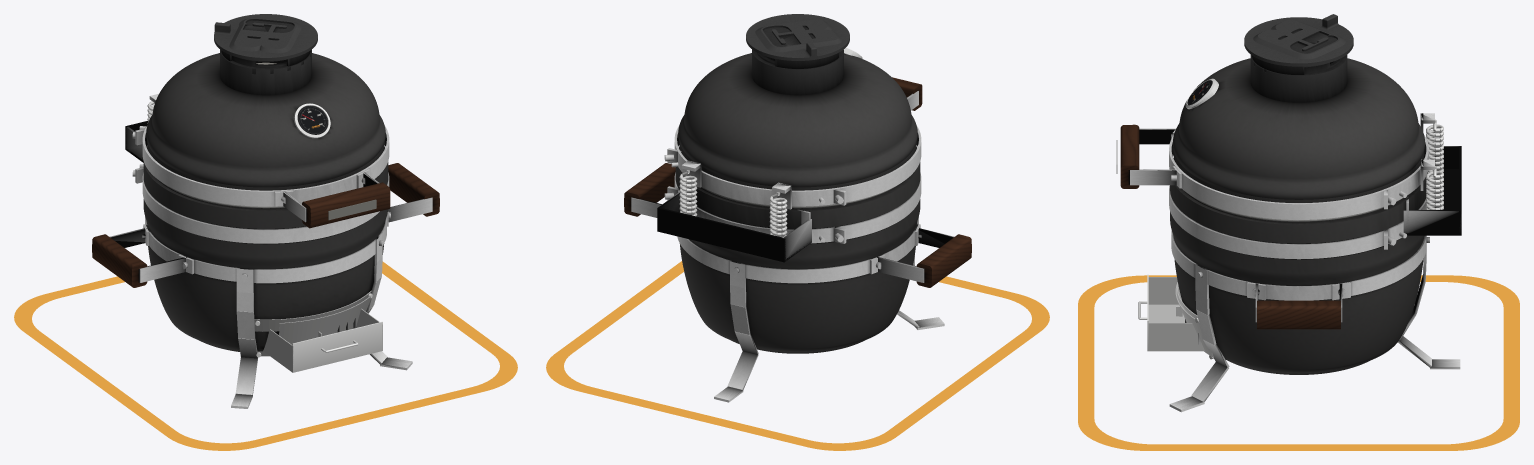
File: grill-bill-pro-3-medium-16-v28.glb
The picture shows the model from 3 angles, left to right: view 1: azimuth 30°, elevation 25°; view 2: azimuth 150°, elevation 25°; view 3: azimuth 270°, elevation 25°; orthographic projection. The views are drawn at different scales.
Parts seen in each view (by area): view 1: base, lid; view 2: base, lid; view 3: base, lid.
Part boxes in pixels (x1,y1,x2,y2): base: (14, 101, 517, 450); lid: (132, 14, 390, 228); base: (546, 147, 1049, 450); lid: (664, 14, 922, 209); base: (1078, 119, 1519, 450); lid: (1116, 14, 1434, 219).
Size of the model in its own units: 0.6441 by 0.5715 by 0.6853.
Materials: 20 (7 with a texture image).
